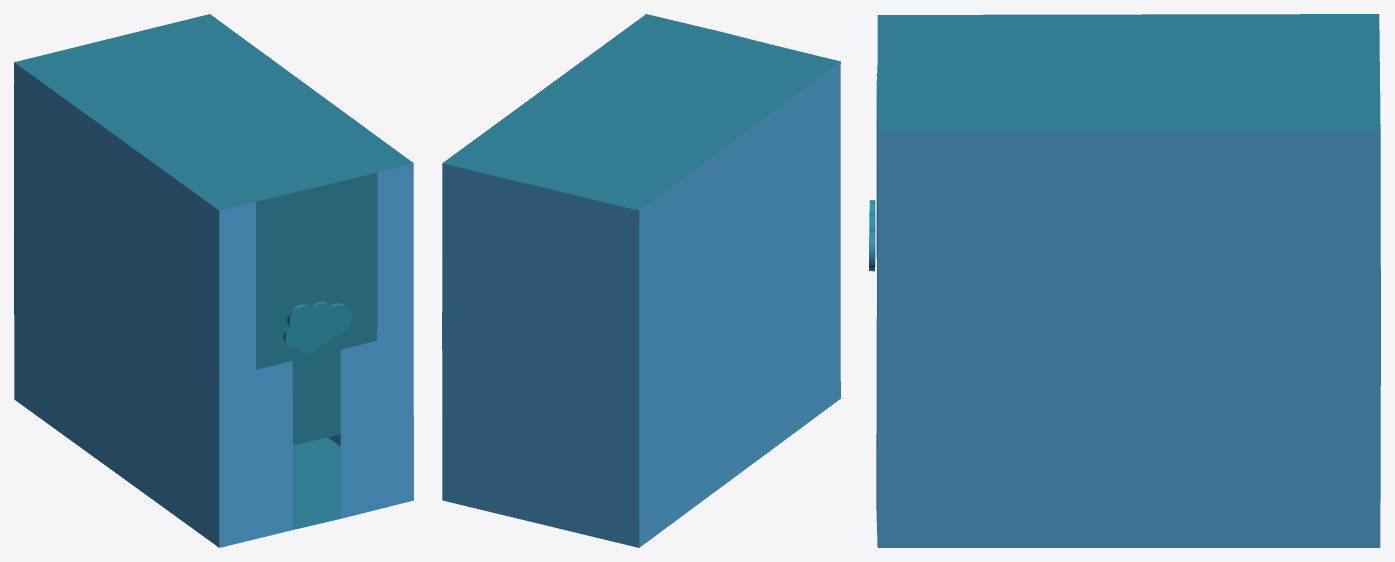
File: SFTowerV8.glb
3 renders of one model, left to right at view 1: azimuth 30°, elevation 25°; view 2: azimuth 150°, elevation 25°; view 3: azimuth 270°, elevation 25°, orthographic. The views are drawn at different scales.
Parts seen in each view (by area): view 1: Tower, Logo; view 2: Tower; view 3: Tower.
Part boxes in pixels (x1,y1,x2,y2): Tower: [14, 14, 413, 547]; Logo: [283, 301, 351, 353]; Tower: [442, 14, 840, 547]; Tower: [876, 14, 1380, 547].
Size of what is drawn, in the model's own units: 3.66 by 6.01 by 6.7.
